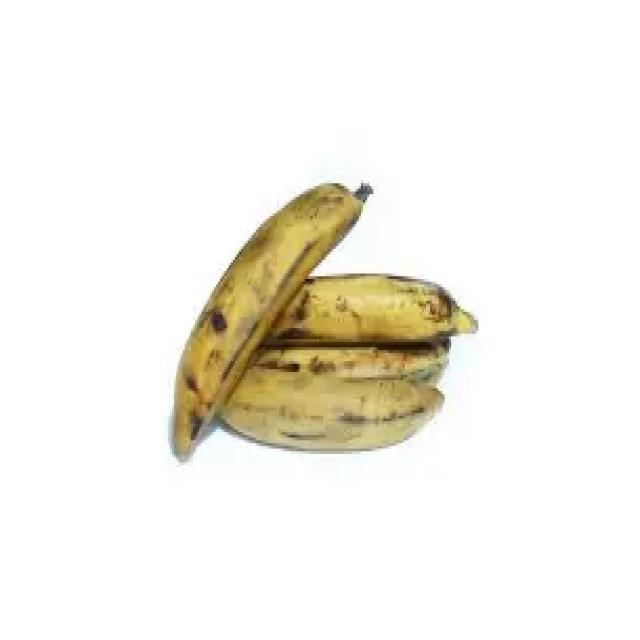BANANA: (171, 182, 479, 463)
